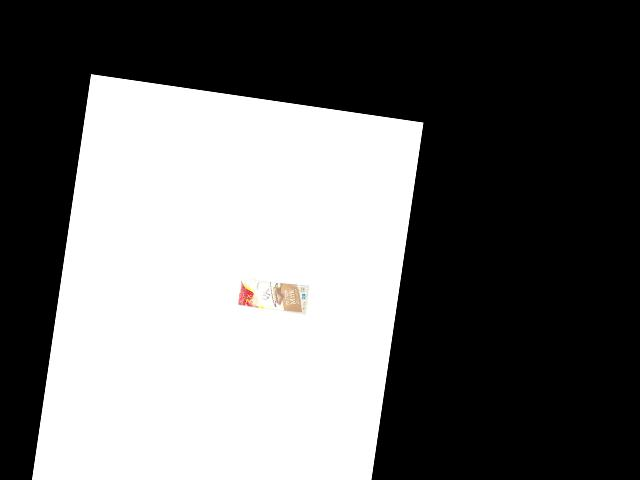chocolate: (235, 274, 308, 316)
